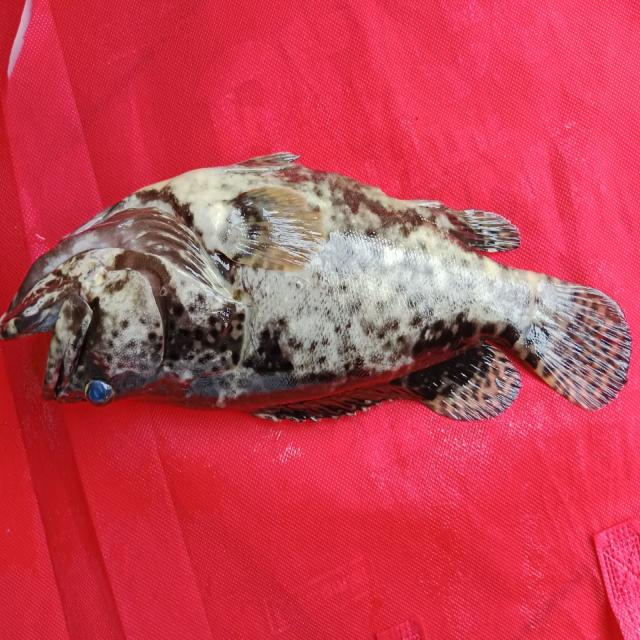ikan: (8, 150, 627, 442)
